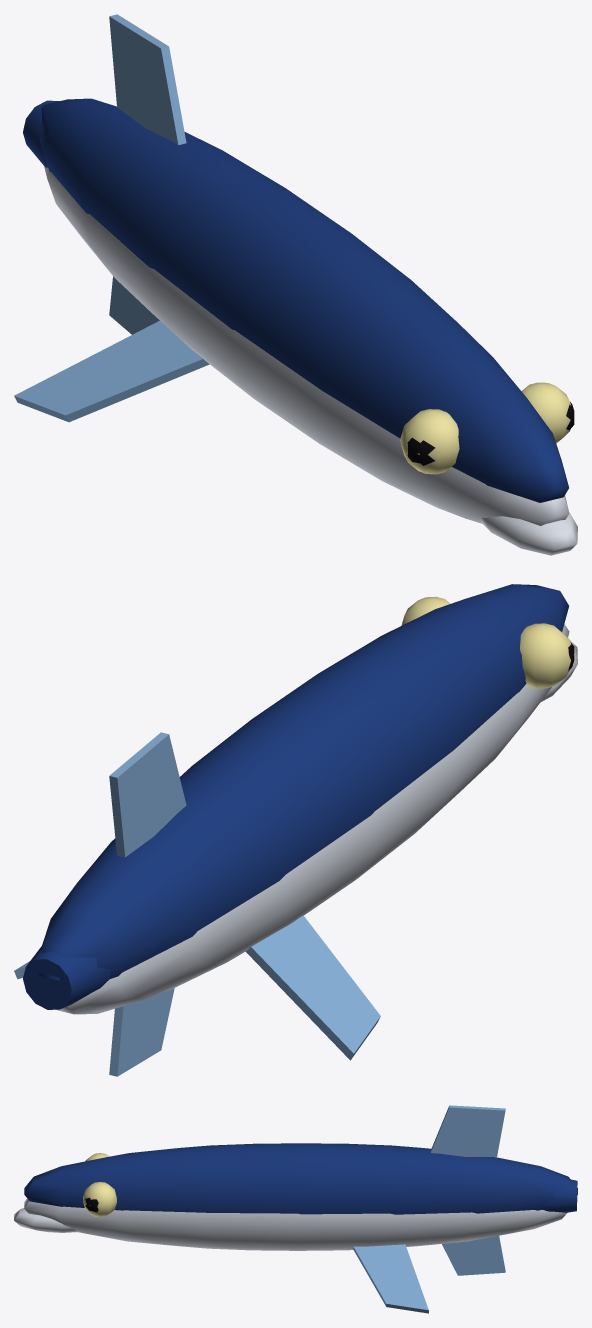
File: flyfish_body.obj
3 views of the same model, one above another, from view 1: azimuth 30°, elevation 25°; view 2: azimuth 150°, elevation 25°; view 3: azimuth 270°, elevation 25° (orthographic). The views are drawn at different scales.
Parts seen in each view (by area): view 1: body; view 2: body; view 3: body.
Boxes of the visible parts, x1,y1,x2,y2 form: body: (14,14,577,555); body: (14,584,577,1076); body: (14,1105,577,1313).
Bounding box in the file's own units: 1.25 × 1.09 × 3.31.
